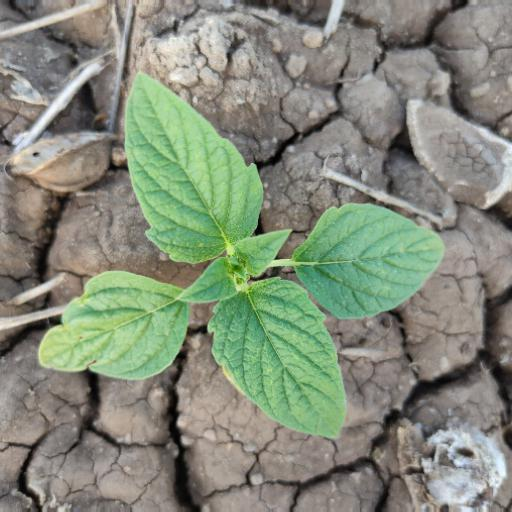crop: (38, 72, 440, 447)
